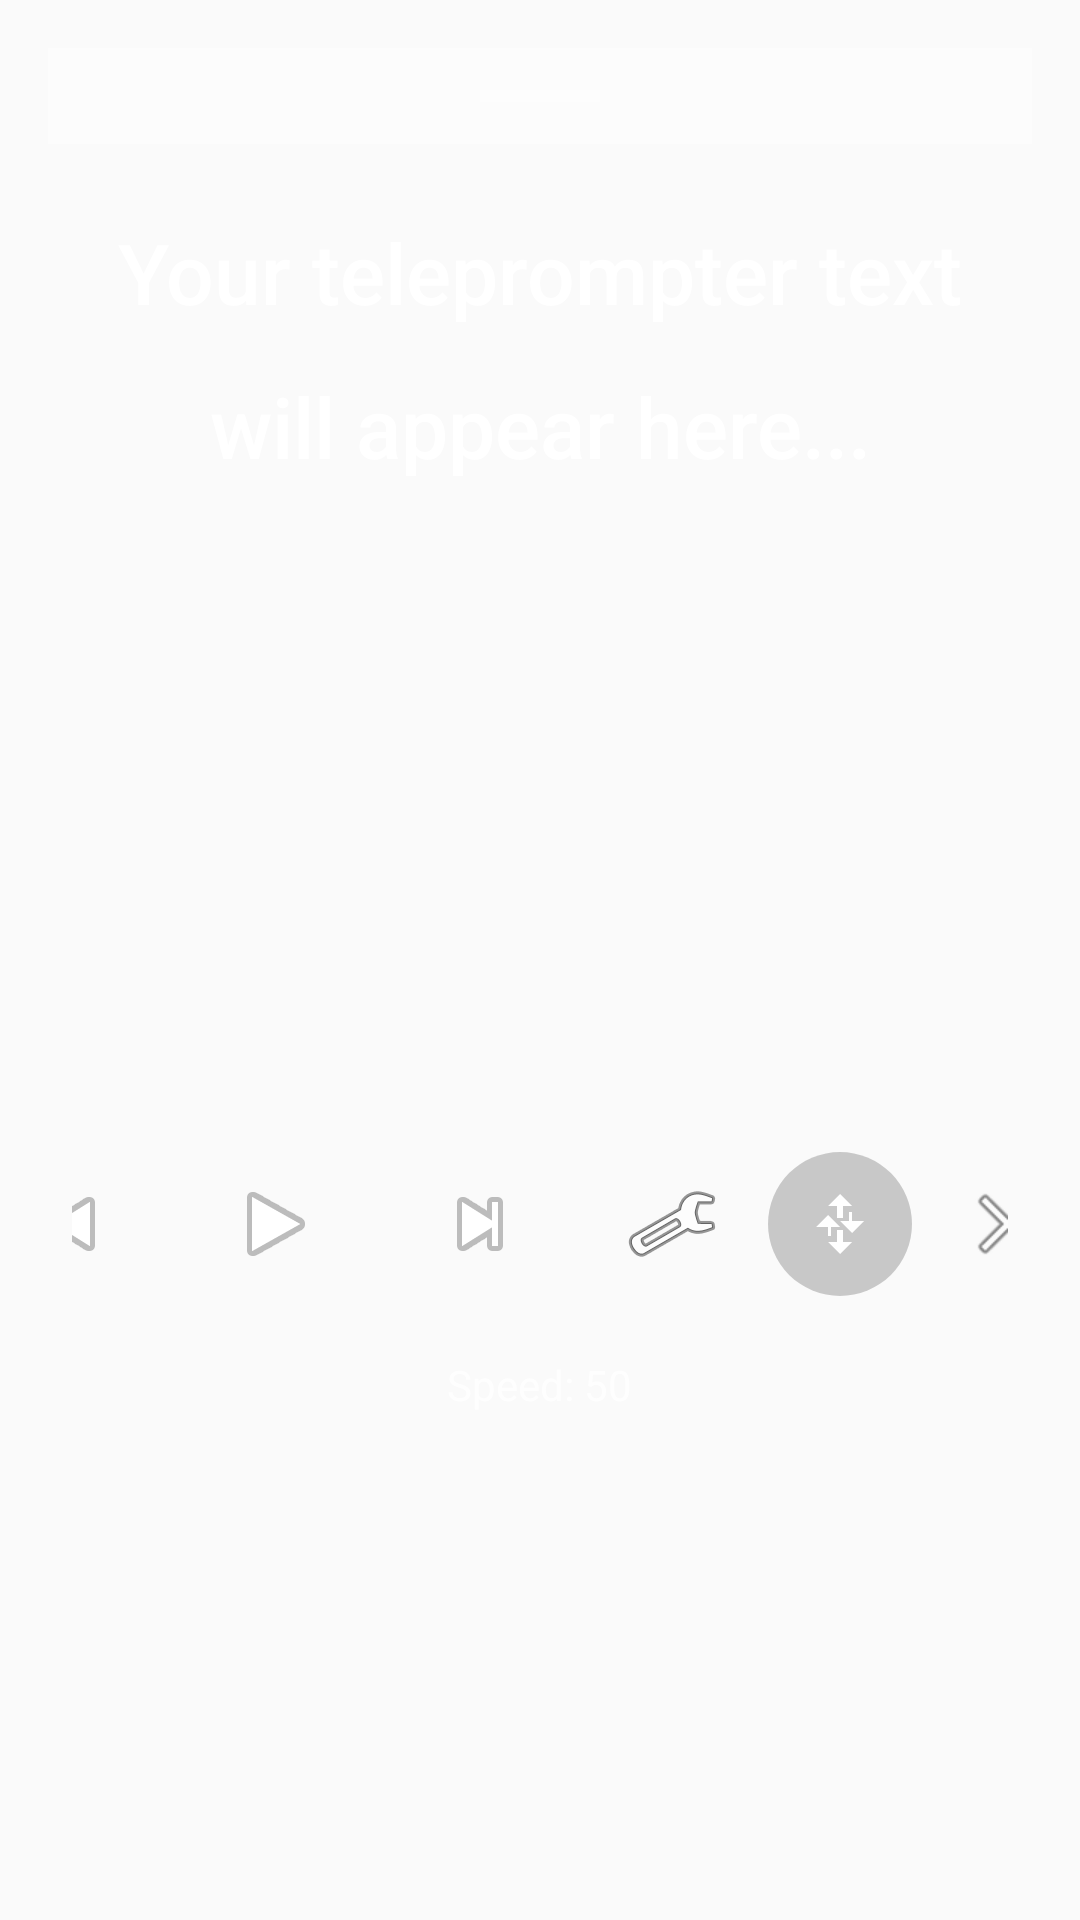

Icons on this 1080px×1920px Android screen, each with its box as BBox(x1, y1, x2, y2):
Drag to move overlay: BBox(768, 1152, 912, 1296)
Open settings: BBox(629, 1191, 715, 1257)
Play or pause scrolling: BBox(247, 1192, 305, 1256)
